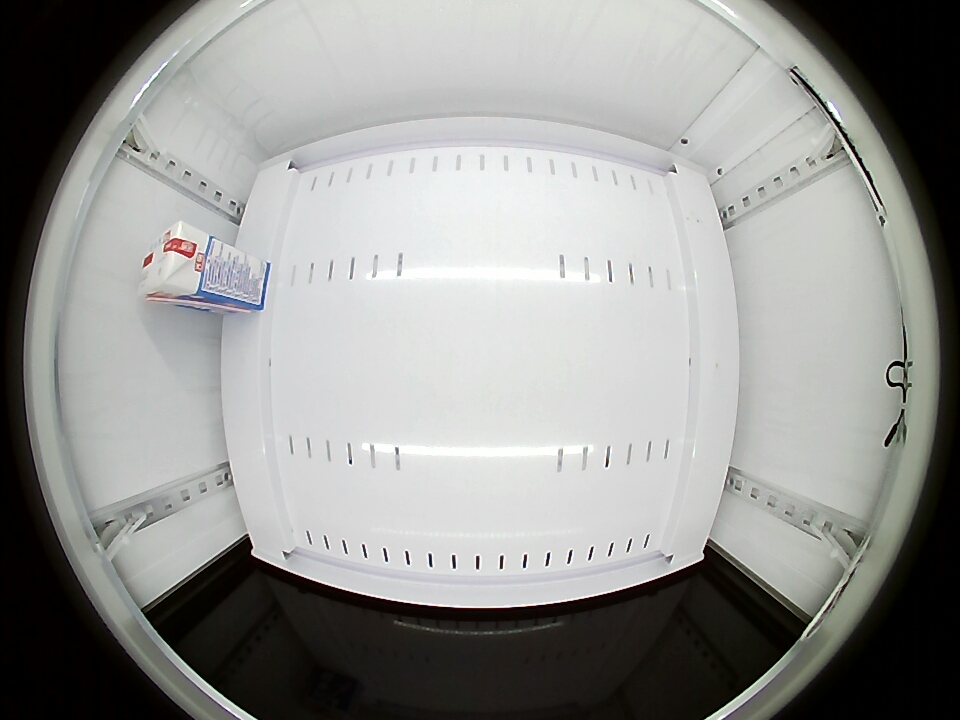niunai: (138, 221, 210, 306)
